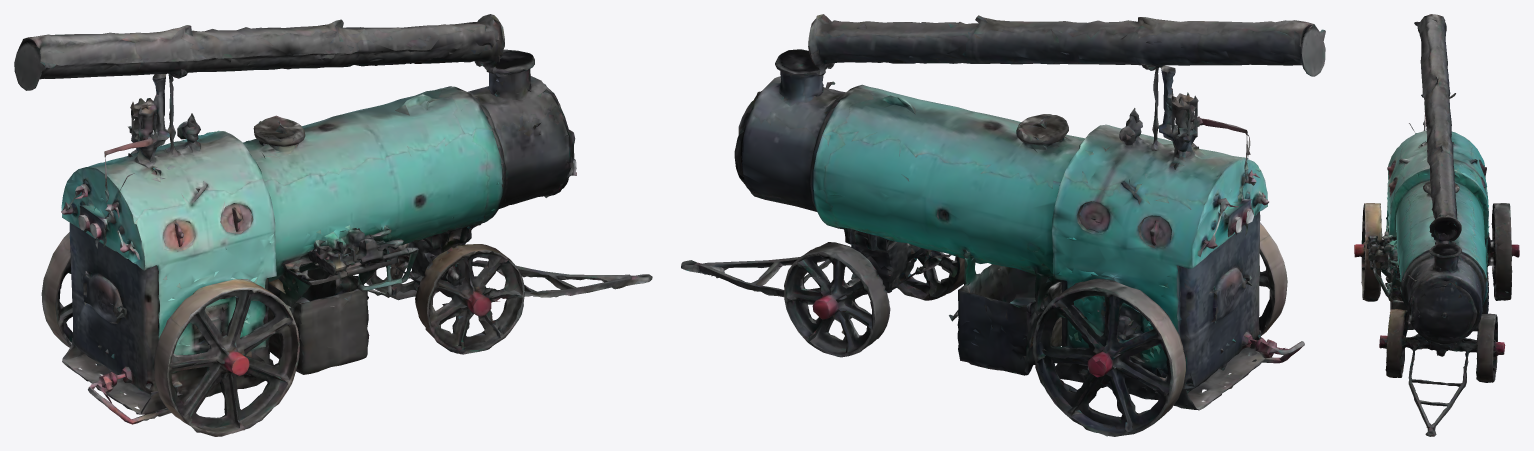
Rendered from donkey_boiler.glb.
The picture shows the model from 3 angles, left to right: view 1: azimuth 30°, elevation 25°; view 2: azimuth 150°, elevation 25°; view 3: azimuth 270°, elevation 25°; orthographic projection. The views are drawn at different scales.
Visible parts, largest first — view 1: Object_2; view 2: Object_2; view 3: Object_2.
Part boxes in pixels (bbox=[...]): Object_2: bbox=[14, 14, 652, 436]; Object_2: bbox=[681, 14, 1325, 436]; Object_2: bbox=[1354, 14, 1519, 436].
Size of the model in its own units: 11.67 by 6.97 by 4.33.
Materials: 1 (1 with a texture image).
